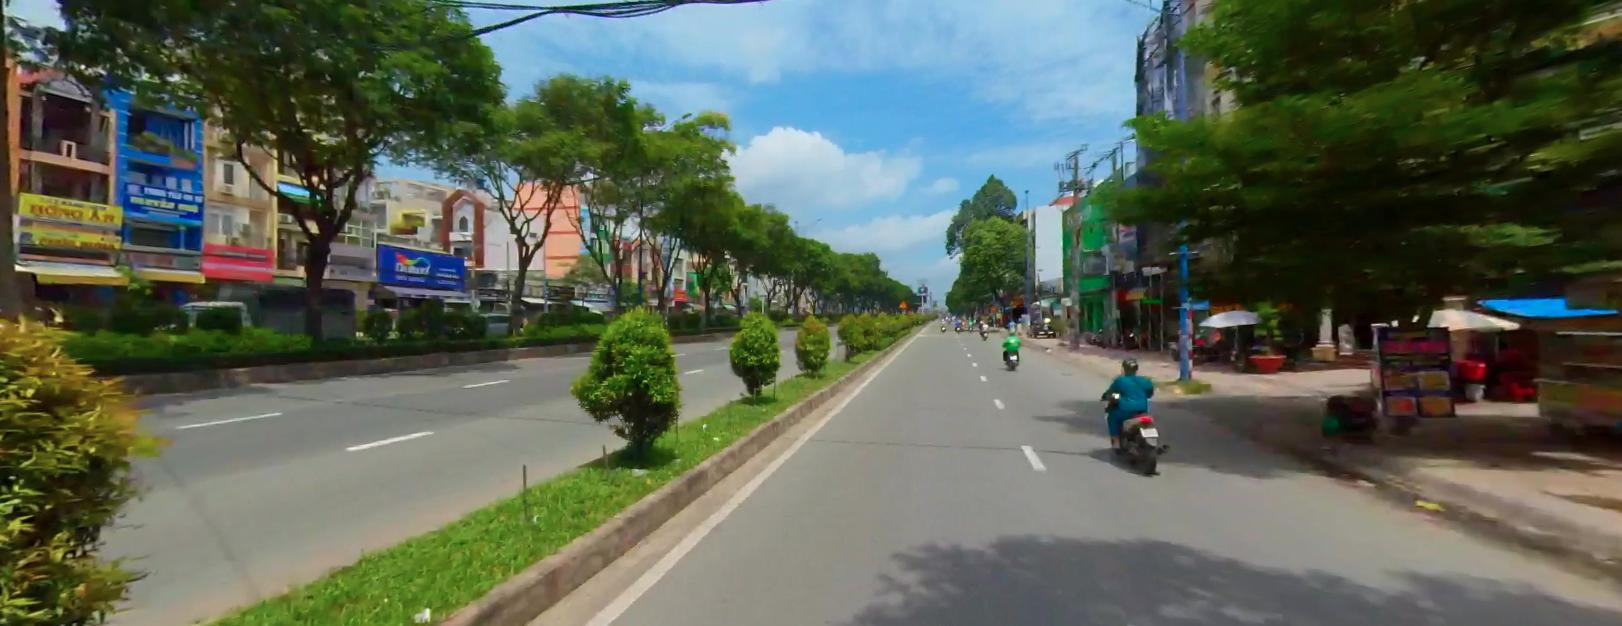Nguy hiem: (898, 299, 908, 307)
